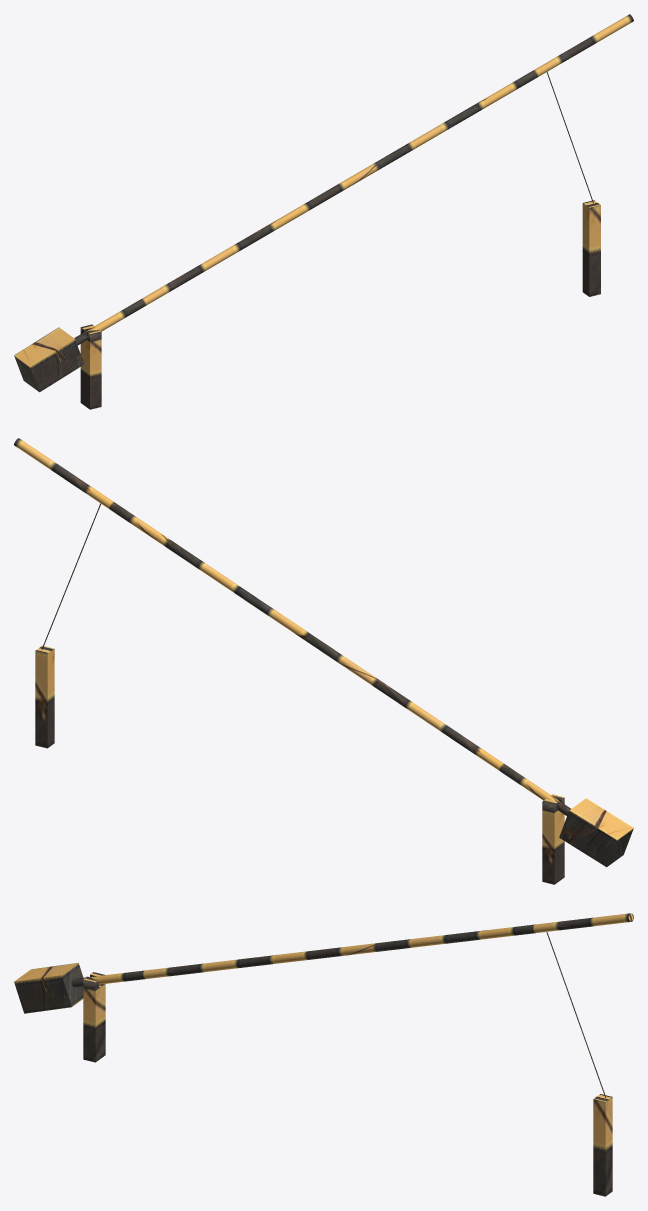
Rendered from CarparkEntrance.fbx.
3 views of the same model, one above another, from view 1: azimuth 30°, elevation 25°; view 2: azimuth 150°, elevation 25°; view 3: azimuth 330°, elevation 25° (orthographic). The views are drawn at different scales.
Visible parts, largest first — view 1: CarparkEntrance; view 2: CarparkEntrance; view 3: CarparkEntrance.
Boxes of the visible parts, x1,y1,x2,y2 form: CarparkEntrance: (14,14,633,409); CarparkEntrance: (14,438,633,884); CarparkEntrance: (14,913,633,1196).
Bounding box in the file's own units: 69.92 × 31.07 × 5.73.
